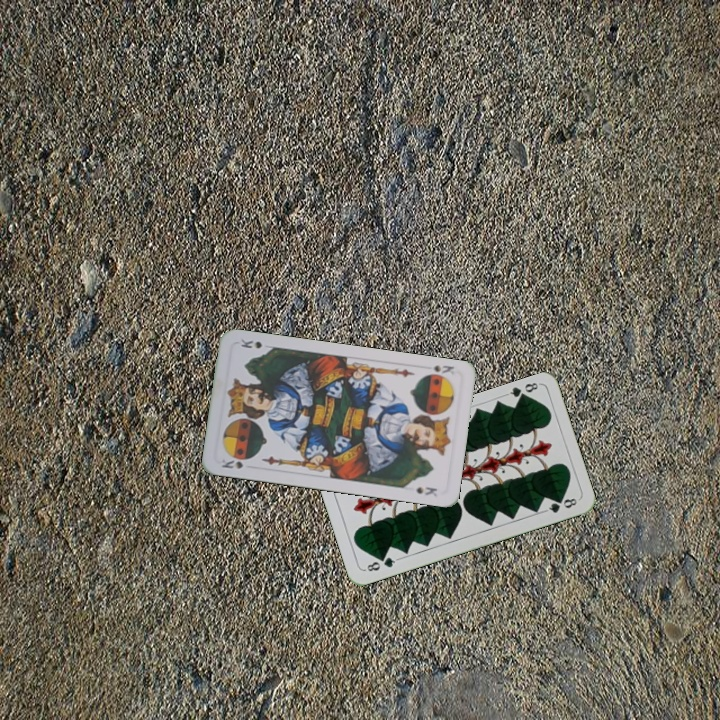G8: (502, 378, 542, 404), (361, 553, 401, 574)
SK: (429, 361, 457, 377), (218, 456, 245, 471)
